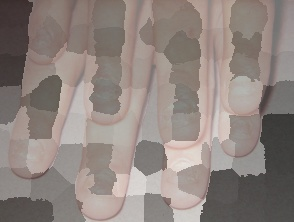Nail_psoriasis: (77, 165, 128, 212), (156, 94, 204, 139), (162, 153, 206, 196), (221, 72, 263, 115), (24, 21, 64, 62), (223, 112, 263, 152), (86, 76, 125, 104), (11, 137, 46, 167)
